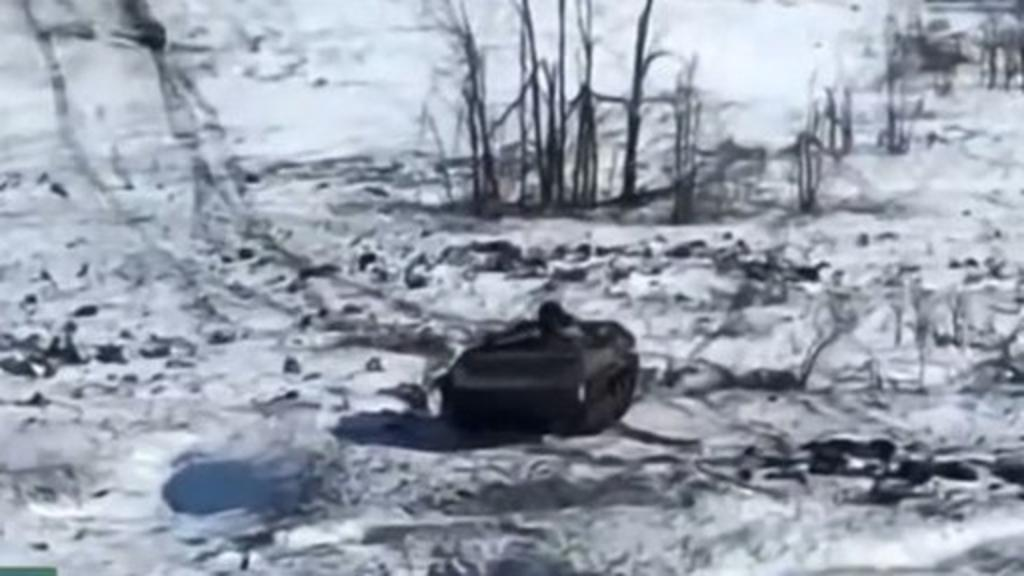APC-IFV: (434, 298, 644, 434)
